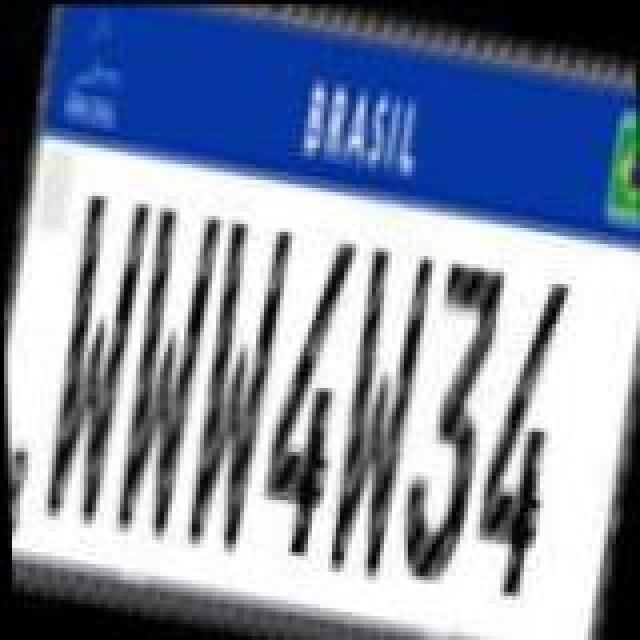3: (378, 252, 514, 588)
4: (452, 264, 584, 604), (244, 228, 376, 564)
W: (92, 196, 236, 548), (304, 238, 444, 586), (24, 184, 160, 532), (170, 210, 306, 558)
